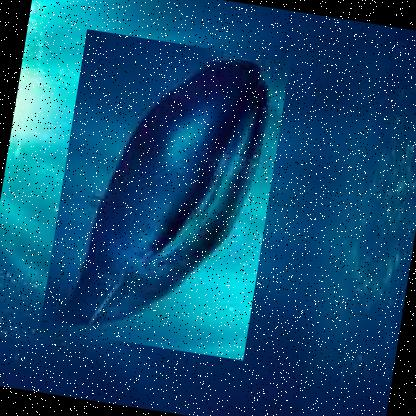blue_whale: (38, 28, 290, 362)
